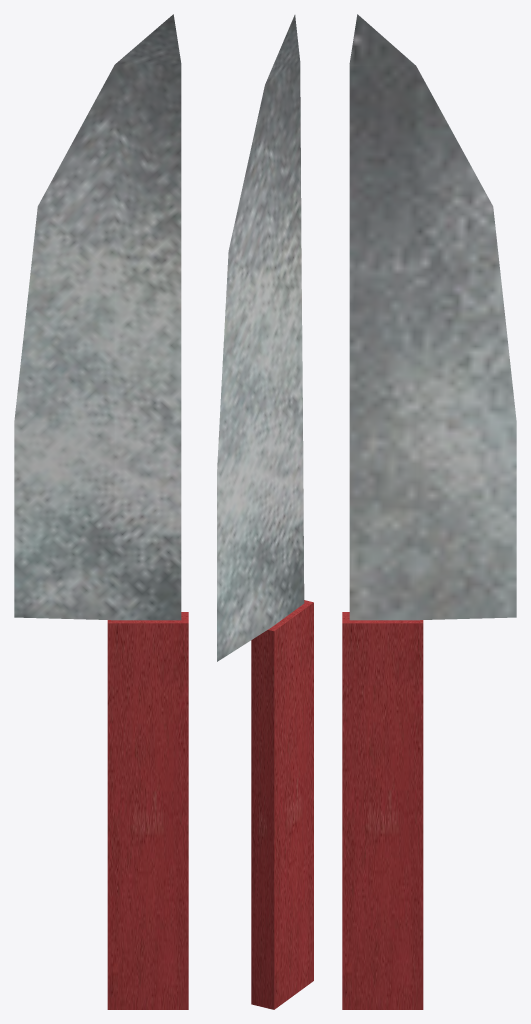
The model's file is knife.FBX.
3 views of the same model, side by side, from view 1: azimuth 90°, elevation 25°; view 2: azimuth 150°, elevation 25°; view 3: azimuth 270°, elevation 25° (orthographic). The views are drawn at different scales.
Visible parts, largest first — view 1: Object001, Box001; view 2: Object001, Box001; view 3: Object001, Box001.
Part boxes in pixels (x1,y1,x2,y2): Object001: (14, 14, 181, 620); Box001: (107, 612, 188, 1009); Object001: (217, 15, 304, 661); Box001: (251, 600, 313, 1009); Object001: (349, 14, 516, 620); Box001: (342, 612, 423, 1009).
Size of the model in its own units: 1.47 by 59.3 by 9.46.
Materials: 2 (2 with a texture image).
